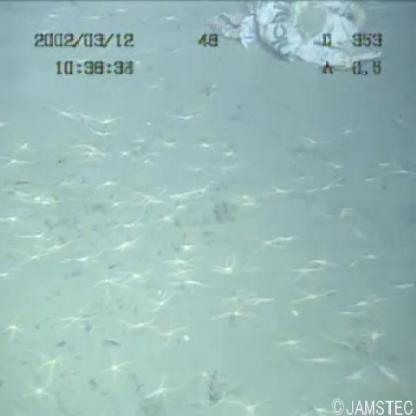Rác: (199, 1, 379, 80)
